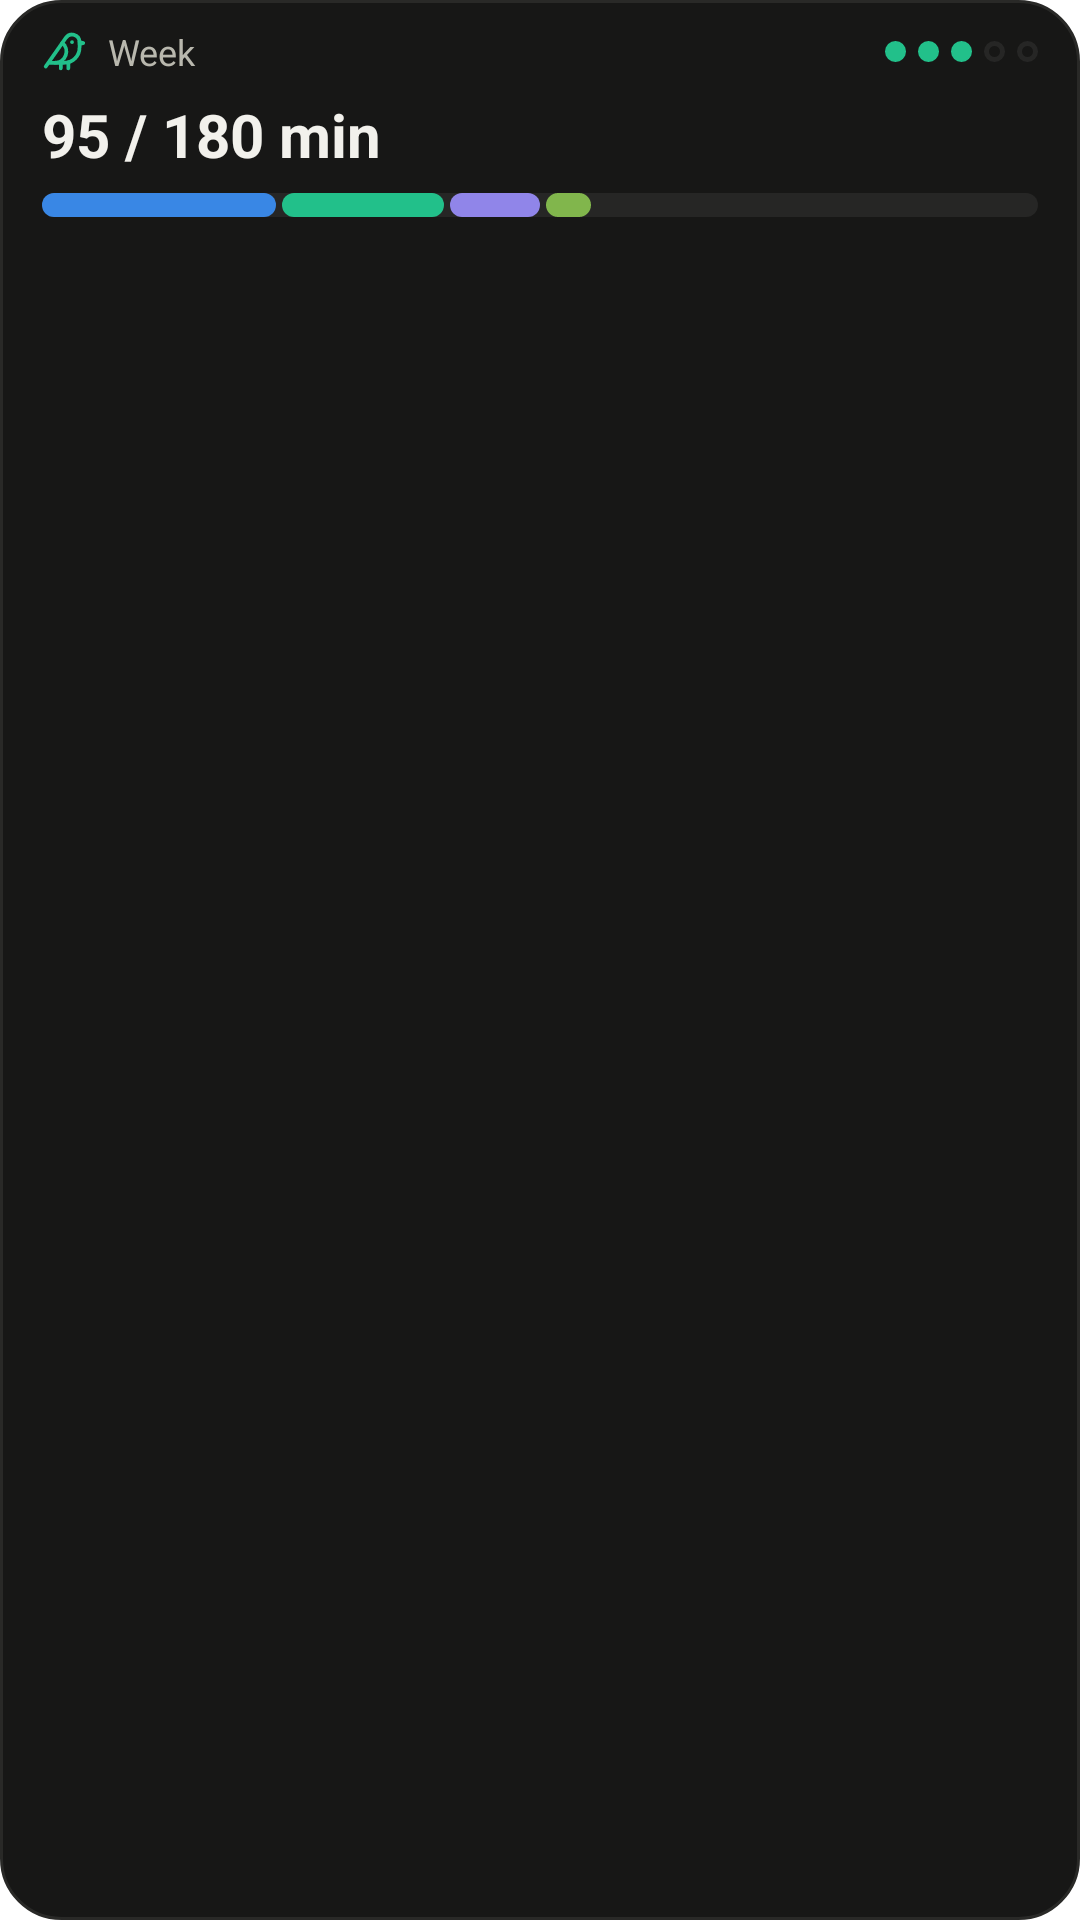

Screen size 1080 × 1920. Icon name, then its box in pixels as (x1, y1, x2, y2):
widget bird: (44, 32, 85, 71)
